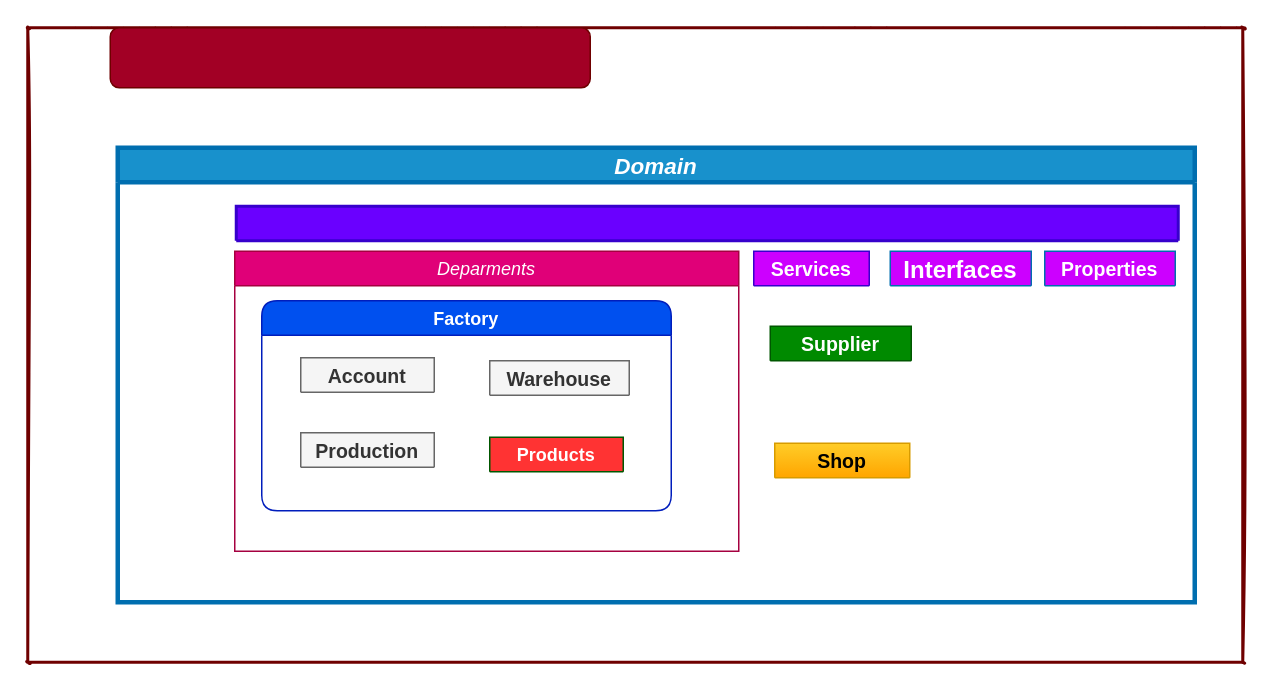
Image size: 1269x689. Some labels were removed from this diagram. The shapes that lost their labels are listed below. From the top down, each one's centre as x and y in pixels, then its label:
At point (349, 57): "ChocoFactory".
At point (706, 223): "Company".
